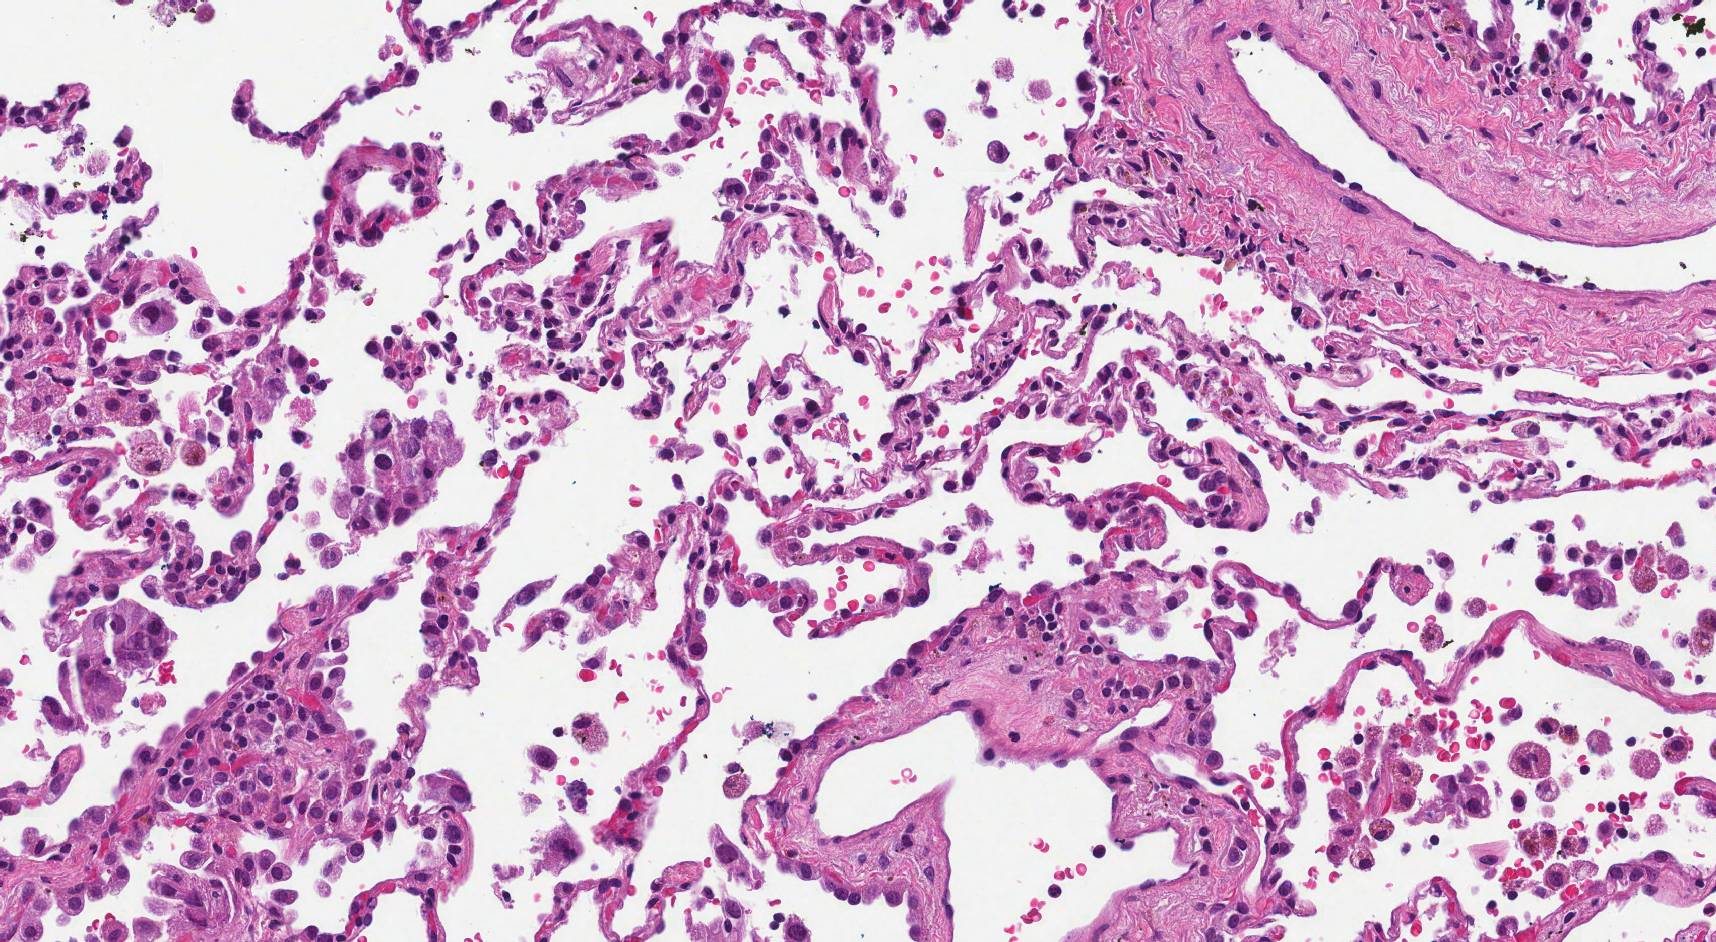stas: (331, 407, 464, 543), (42, 596, 179, 729)
